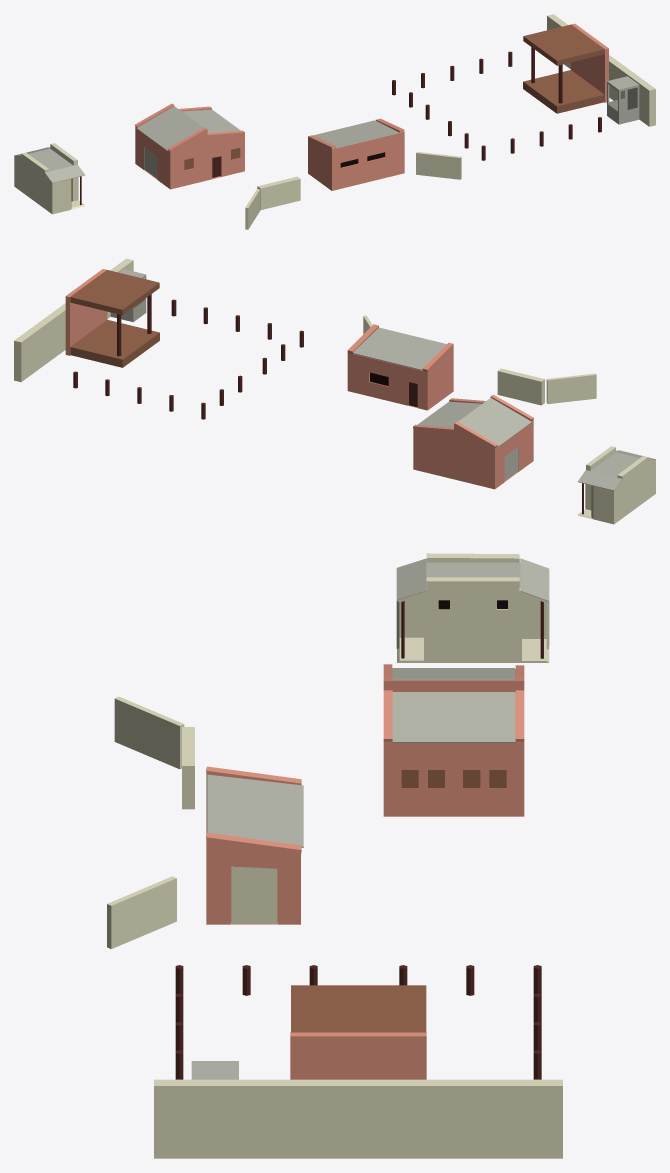
File: festival.gltf
3 views of the same model, one above another, from view 1: azimuth 30°, elevation 25°; view 2: azimuth 150°, elevation 25°; view 3: azimuth 270°, elevation 25° (orthographic). The views are drawn at different scales.
Parts seen in each view (by area): view 1: Boleteria, CantinaDetras, Baños, TarimaEsc, TechoEsc, Cantina, ParedAtrasEsc, TechoCan2, EscritorioEsc, TechoRad, ParedAtrasEsc.001, PlacaEntrada3 (+4 smaller); view 2: Boleteria, CantinaDetras, Baños, ParedAtrasEsc, TarimaEsc, TechoEsc, TechoRad, Cantina, TechoCan2, ParedAtrasEsc.001, PlacaPlacaEntrada2, PlacaPlacaEntrada1 (+3 smaller); view 3: ParedAtrasEsc, Baños, Cantina, ParedAtrasEsc.001, TechoEsc, Boleteria, TechoCan, TechoRad, TechoBano, PlacaEntrada3, PlacaPlacaEntrada1, Cube (+4 smaller).
Boxes of the visible parts, box(x1,y1,x2,y2) form: Boleteria: box(308, 118, 404, 190); CantinaDetras: box(135, 103, 207, 189); Baños: box(14, 143, 84, 214); TarimaEsc: box(523, 70, 604, 113); TechoEsc: box(523, 24, 604, 65); Cantina: box(178, 106, 244, 180); ParedAtrasEsc: box(547, 14, 655, 126); TechoCan2: box(136, 106, 203, 150); EscritorioEsc: box(607, 76, 639, 124); TechoRad: box(313, 120, 399, 148); ParedAtrasEsc.001: box(571, 23, 608, 102); PlacaEntrada3: box(416, 152, 461, 179); Boleteria: box(347, 324, 453, 410); CantinaDetras: box(454, 394, 533, 489); Baños: box(578, 446, 655, 524); ParedAtrasEsc: box(14, 258, 133, 381); TarimaEsc: box(70, 320, 159, 367); TechoEsc: box(70, 270, 159, 315); TechoRad: box(352, 327, 446, 370); Cantina: box(413, 398, 485, 479); TechoCan2: box(458, 398, 531, 446); ParedAtrasEsc.001: box(65, 269, 107, 355); PlacaPlacaEntrada2: box(497, 368, 544, 405); PlacaPlacaEntrada1: box(546, 373, 596, 403); ParedAtrasEsc: box(154, 1079, 562, 1158); Baños: box(396, 553, 549, 662); Cantina: box(383, 690, 524, 816); ParedAtrasEsc.001: box(290, 1032, 426, 1079); TechoEsc: box(291, 985, 426, 1032); Boleteria: box(206, 766, 301, 924); TechoCan: box(392, 692, 515, 742); TechoRad: box(206, 774, 303, 847); TechoBano: box(396, 558, 549, 601); PlacaEntrada3: box(107, 876, 176, 948); PlacaPlacaEntrada1: box(114, 696, 184, 769); Cube: box(231, 866, 277, 923).
Bounding box in the file's own units: 20.68 × 2.07 × 7.52.
